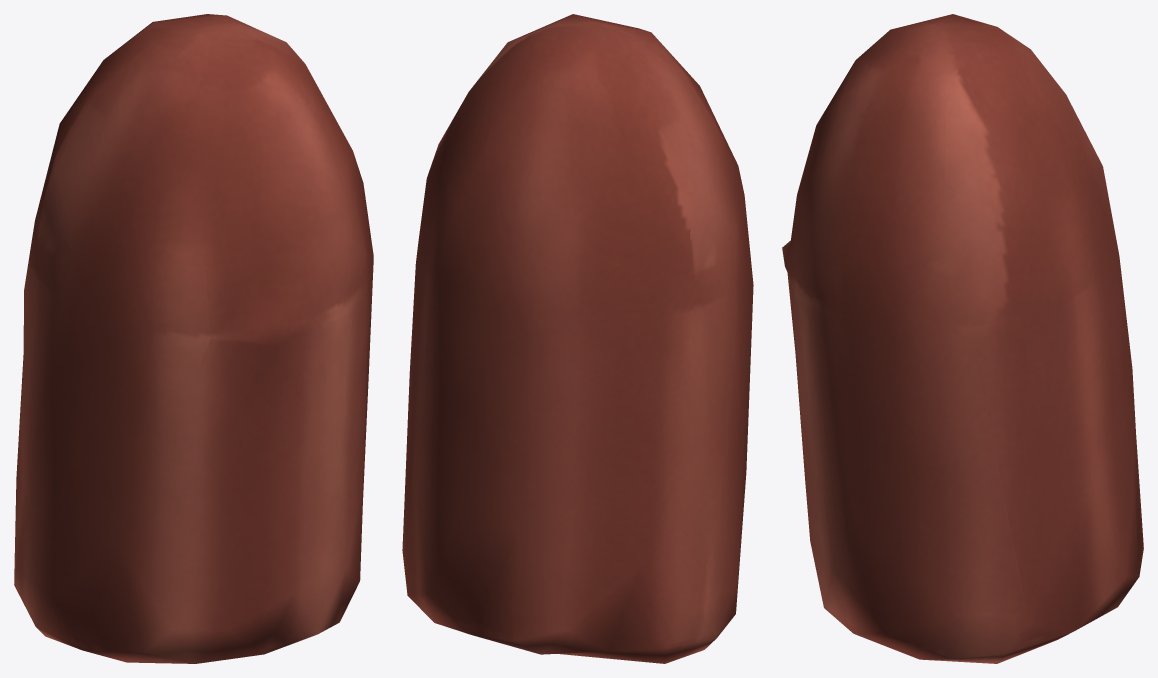
The model's file is Pistol_Bullet.glb.
3 views of the same model, side by side, from view 1: azimuth 30°, elevation 25°; view 2: azimuth 150°, elevation 25°; view 3: azimuth 270°, elevation 25° (orthographic). The views are drawn at different scales.
Size of the model in its own units: 0.4703 by 0.874 by 0.4958.
1 material, 1 textured.
